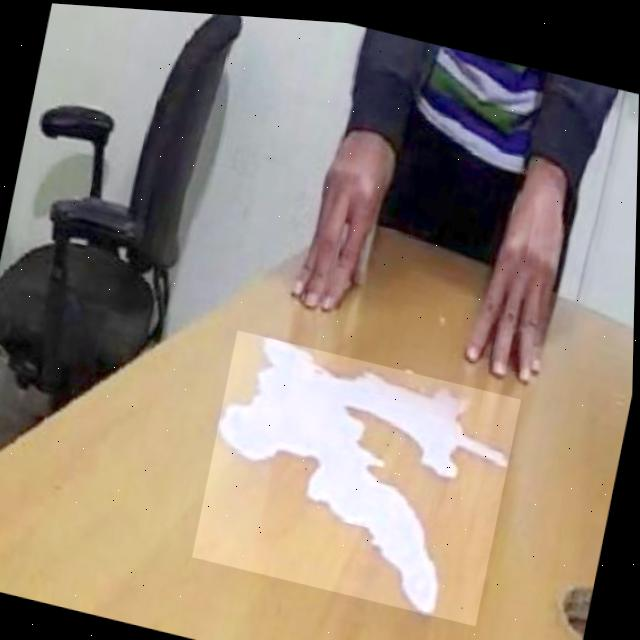spillage: (220, 336, 508, 608)
